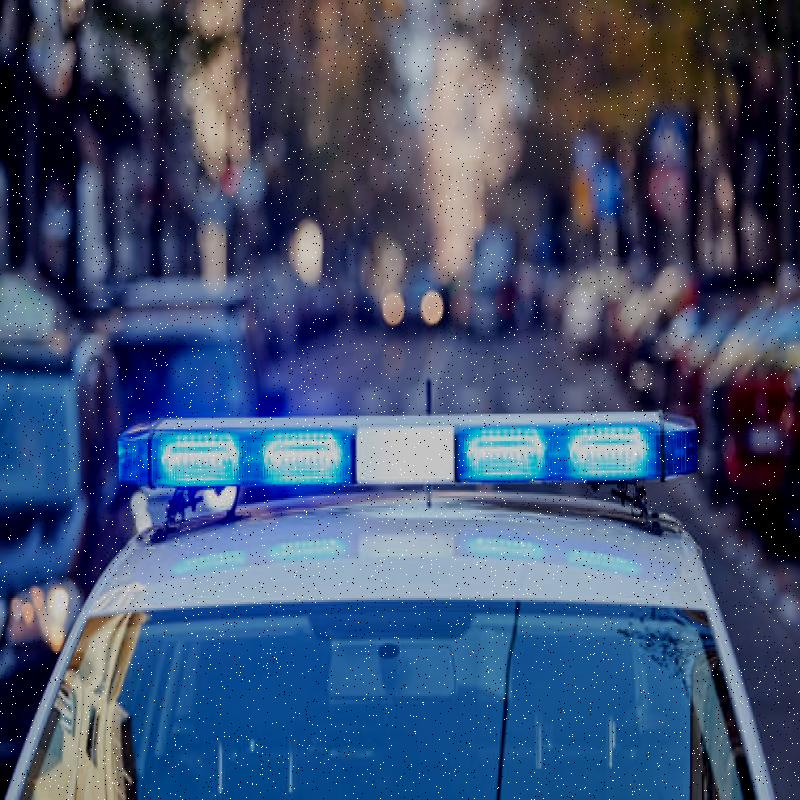AmbulanceSiren: (99, 391, 716, 521)
